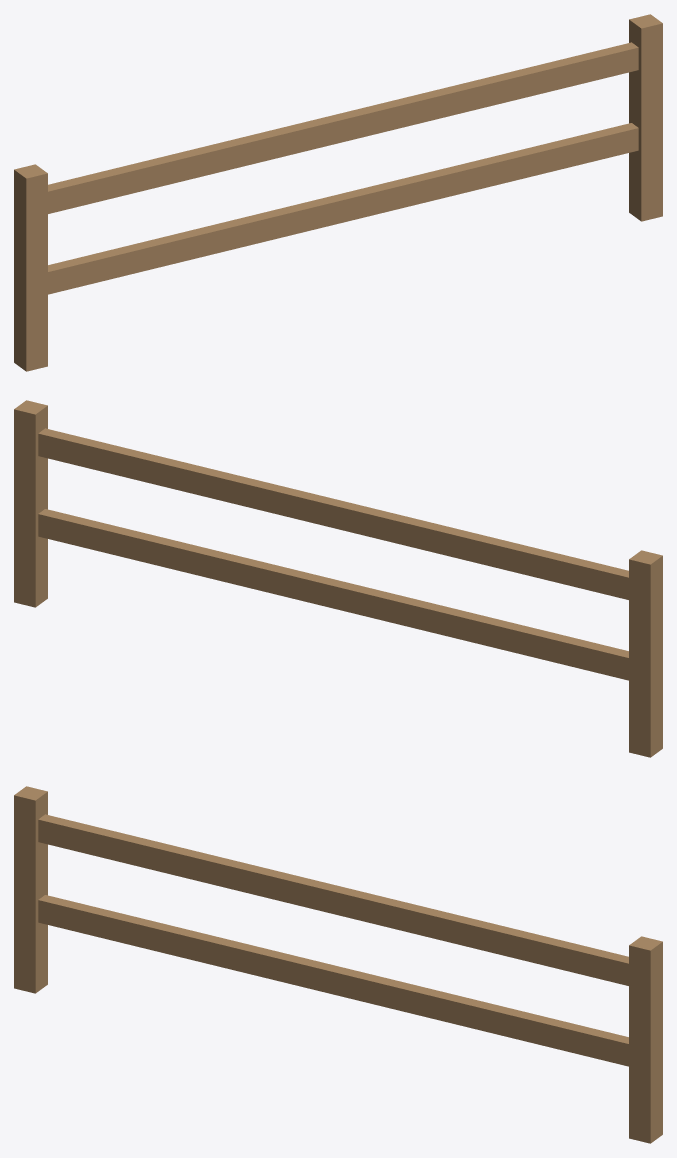
File: fence.glb
3 views of the same model, one above another, from view 1: azimuth 30°, elevation 25°; view 2: azimuth 150°, elevation 25°; view 3: azimuth 330°, elevation 25° (orthographic).
Visible parts, largest first — view 1: Fence; view 2: Fence; view 3: Fence.
Boxes of the visible parts, <box> form: Fence: <box>14,14,662,371</box>; Fence: <box>14,400,662,757</box>; Fence: <box>14,786,662,1143</box>.
Size of the model in its own units: 4.14 by 1.2 by 0.14.
